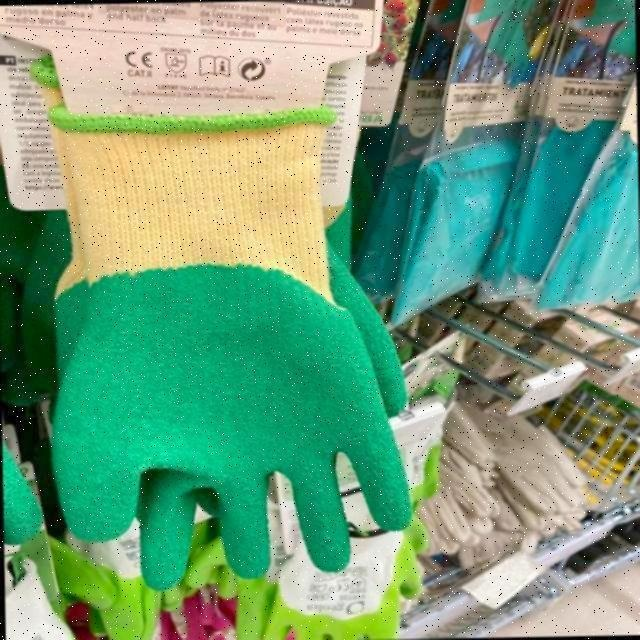Guantes: (38, 97, 423, 572)
